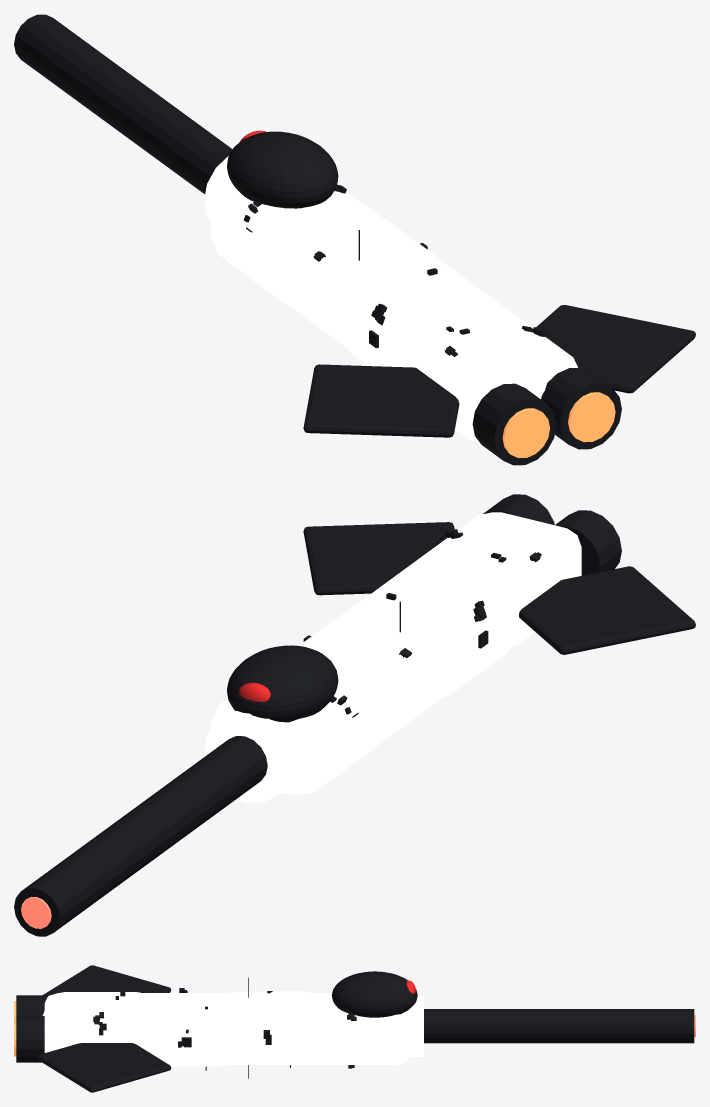
File: tarkhan_cruiser.glb
3 renders of one model, top to bottom at view 1: azimuth 30°, elevation 25°; view 2: azimuth 150°, elevation 25°; view 3: azimuth 270°, elevation 25°, orthographic. The views are drawn at different scales.
Parts seen in each view (by area): view 1: tarkhan_cruiser; view 2: tarkhan_cruiser; view 3: tarkhan_cruiser.
Boxes of the visible parts, <box> form: tarkhan_cruiser: <box>14,14,695,465</box>; tarkhan_cruiser: <box>14,494,695,936</box>; tarkhan_cruiser: <box>14,965,695,1092</box>.
Size of the model in its own units: 4.31 by 1.55 by 10.
